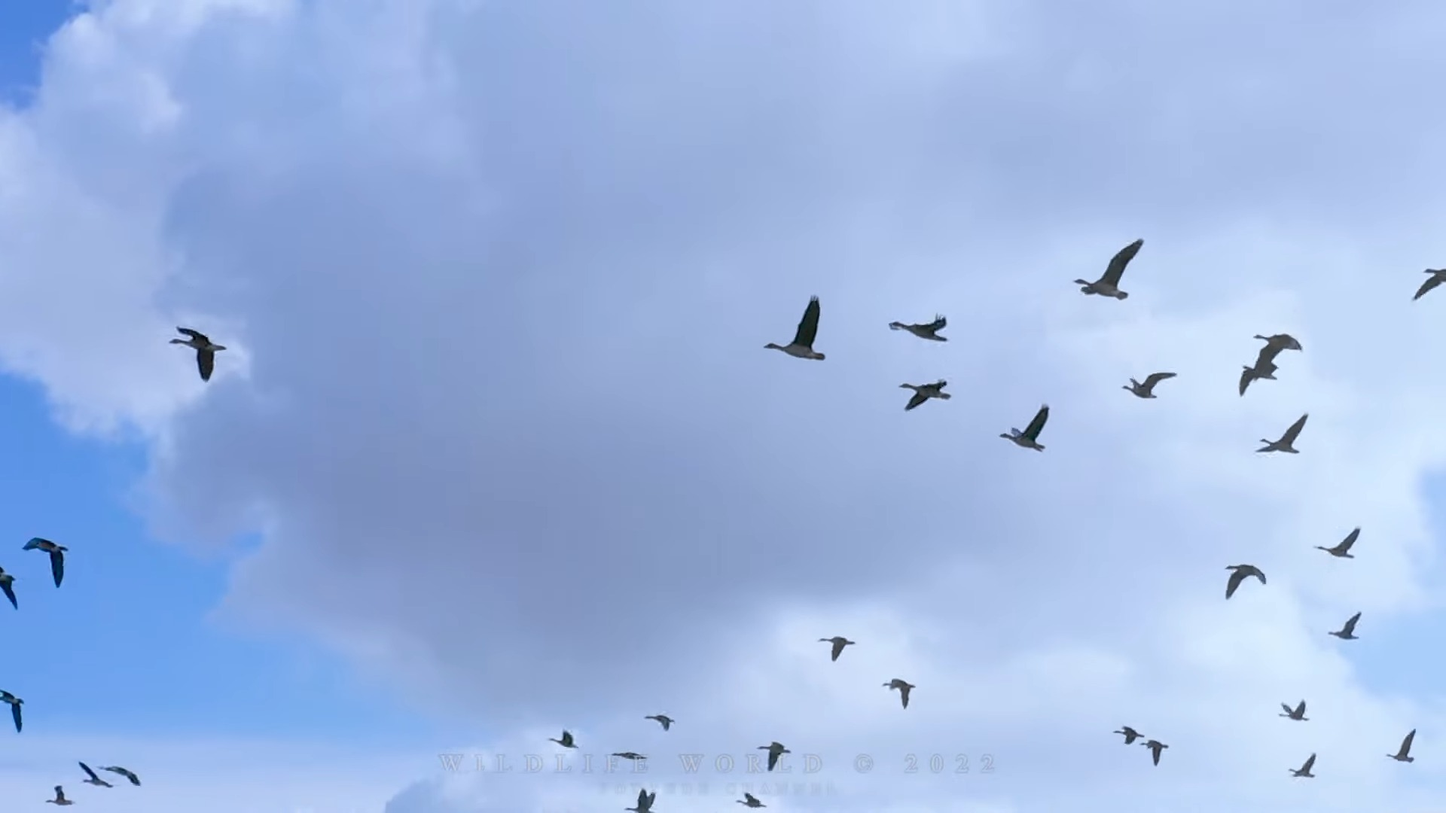not_drone: (759, 292, 832, 371), (1072, 239, 1146, 304), (168, 315, 231, 389), (996, 401, 1057, 455), (883, 303, 956, 346), (19, 531, 73, 589), (1254, 413, 1311, 464), (1220, 556, 1272, 607), (898, 379, 959, 417), (1119, 367, 1182, 402), (1313, 525, 1365, 565), (0, 682, 33, 740), (100, 755, 149, 791), (1326, 606, 1367, 648), (1284, 753, 1331, 788), (818, 631, 861, 667), (752, 734, 792, 771), (1386, 727, 1421, 768), (72, 753, 109, 791), (880, 674, 918, 709), (622, 783, 665, 813), (725, 787, 768, 812), (42, 783, 78, 812), (1277, 697, 1311, 727), (1111, 721, 1146, 749), (1143, 737, 1171, 766), (644, 706, 674, 733), (614, 744, 650, 764), (546, 727, 576, 750)
